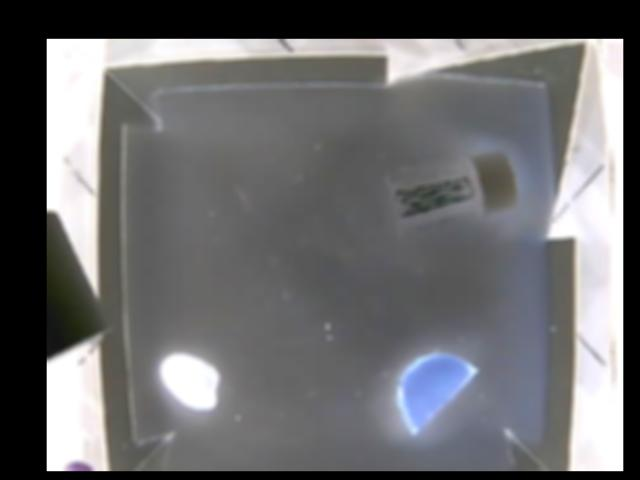Bottle: (387, 151, 517, 218)
Pebble: (158, 351, 224, 410)
Potato: (398, 354, 477, 429)
